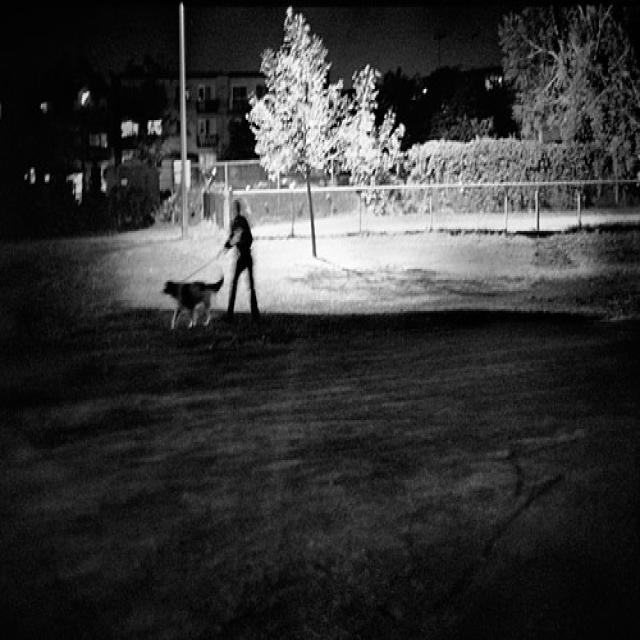People: (220, 177, 269, 332)
dog: (140, 264, 250, 354)
